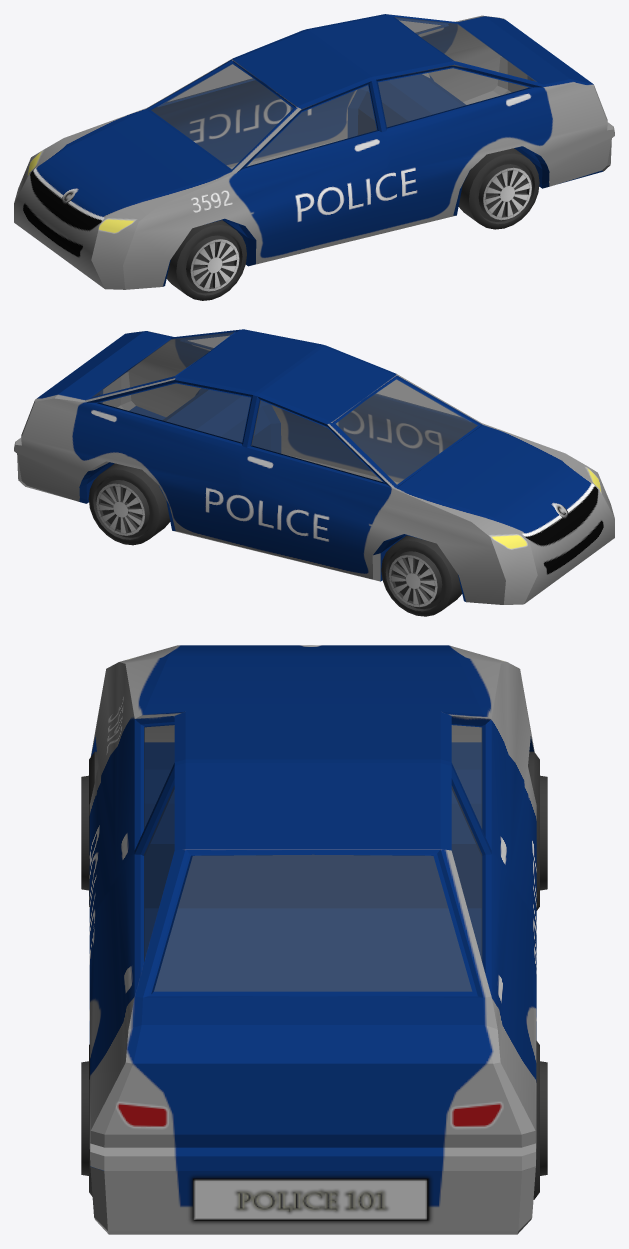
The model's file is PoliceCar.FBX.
3 renders of one model, top to bottom at view 1: azimuth 30°, elevation 25°; view 2: azimuth 150°, elevation 25°; view 3: azimuth 270°, elevation 25°, orthographic. The views are drawn at different scales.
Parts seen in each view (by area): view 1: CarMainBody, WindowPanes, RearLeftWheel, FrontLeftWheel; view 2: CarMainBody, WindowPanes, RearRightWheel, FrontRightWheel; view 3: CarMainBody, WindowPanes, FrontRightWheel, RearRightWheel, FrontLeftWheel, RearLeftWheel.
Part boxes in pixels (x1=…): CarMainBody: x1=14, y1=14, x2=614, y2=289; WindowPanes: x1=151, y1=17, x2=536, y2=168; RearLeftWheel: x1=458, y1=148, x2=539, y2=229; FrontLeftWheel: x1=166, y1=220, x2=246, y2=300; CarMainBody: x1=14, y1=329, x2=614, y2=604; WindowPanes: x1=92, y1=332, x2=477, y2=484; RearRightWheel: x1=88, y1=463, x2=170, y2=545; FrontRightWheel: x1=381, y1=535, x2=462, y2=616; CarMainBody: x1=89, y1=645, x2=536, y2=1234; WindowPanes: x1=144, y1=725, x2=482, y2=991; FrontRightWheel: x1=528, y1=751, x2=547, y2=910; RearRightWheel: x1=533, y1=1040, x2=547, y2=1199; FrontLeftWheel: x1=81, y1=751, x2=98, y2=906; RearLeftWheel: x1=81, y1=1044, x2=92, y2=1196.
Size of the model in its own units: 9.1 by 2.76 by 3.6.
3 materials, 3 textured.
